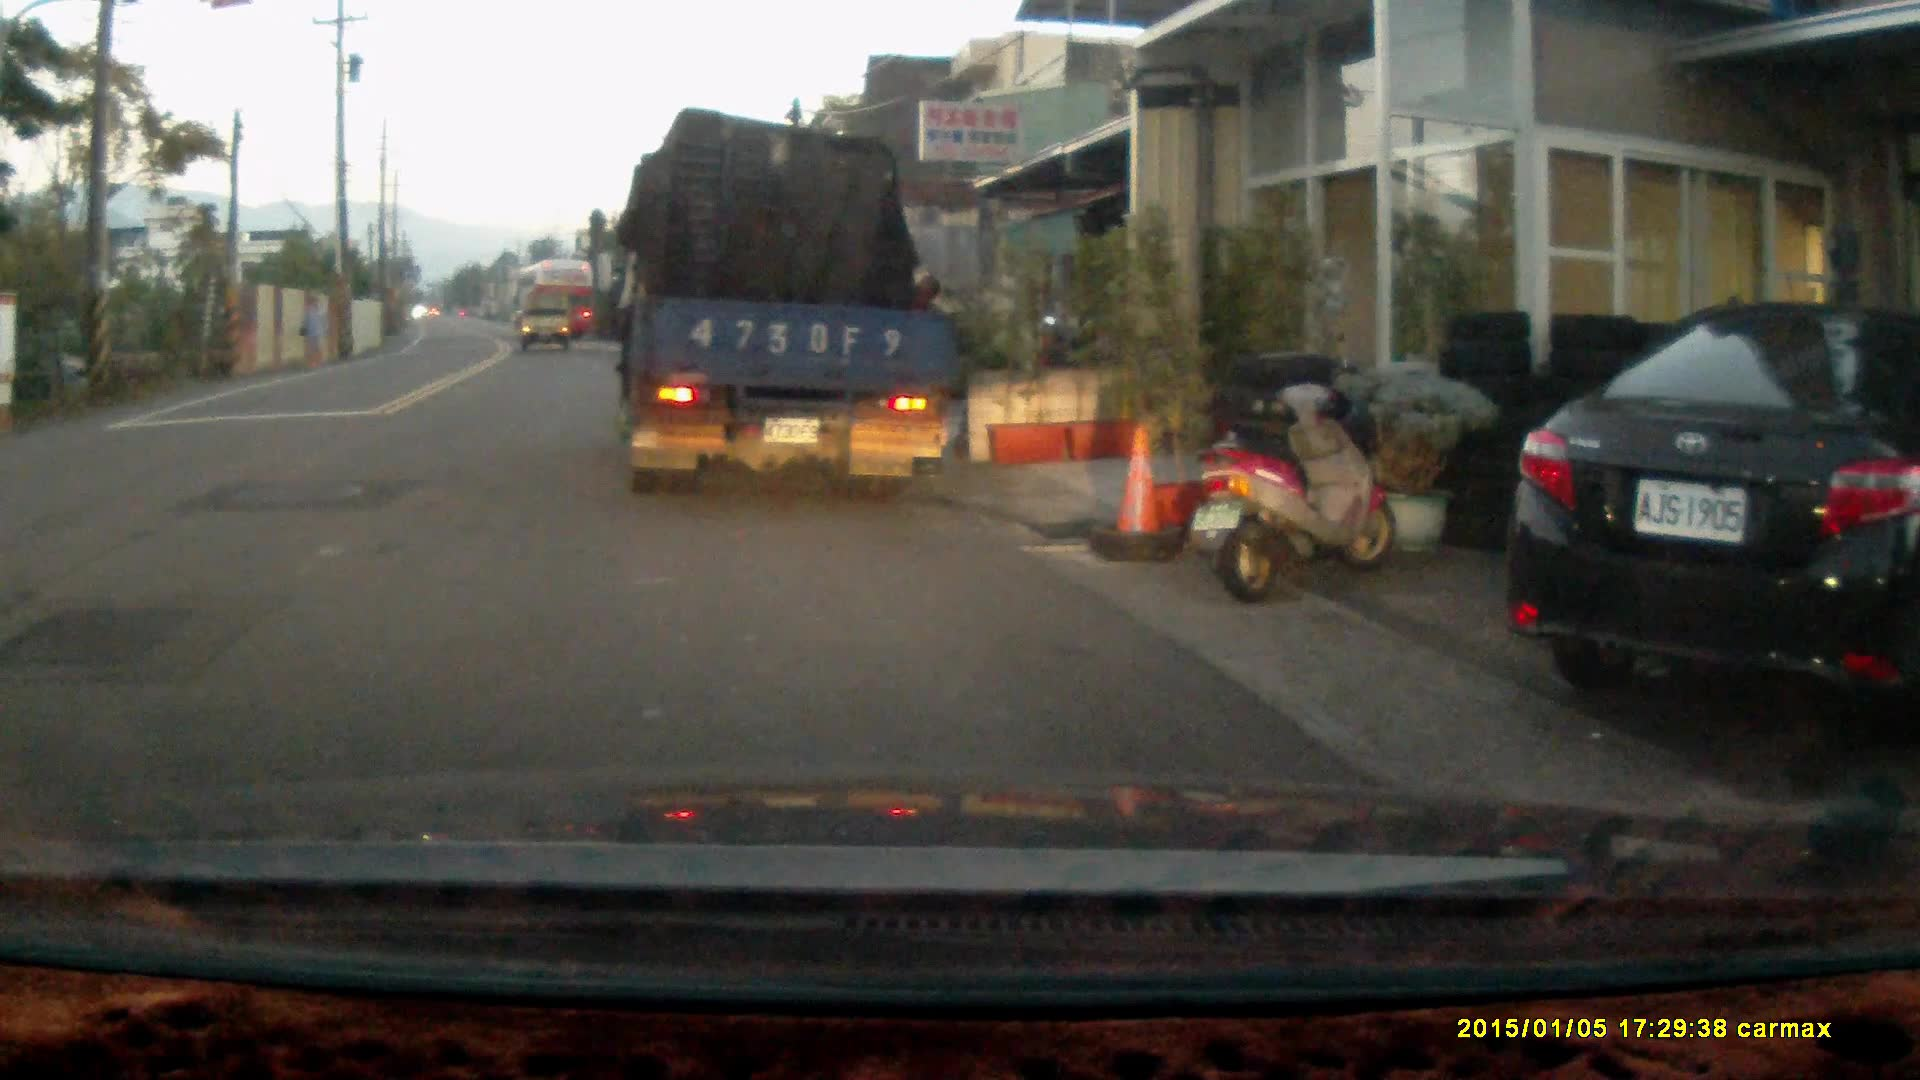pedestrian: (295, 289, 326, 361)
vehicle: (1511, 295, 1920, 740), (615, 118, 969, 501), (520, 254, 598, 338), (523, 292, 574, 355)
